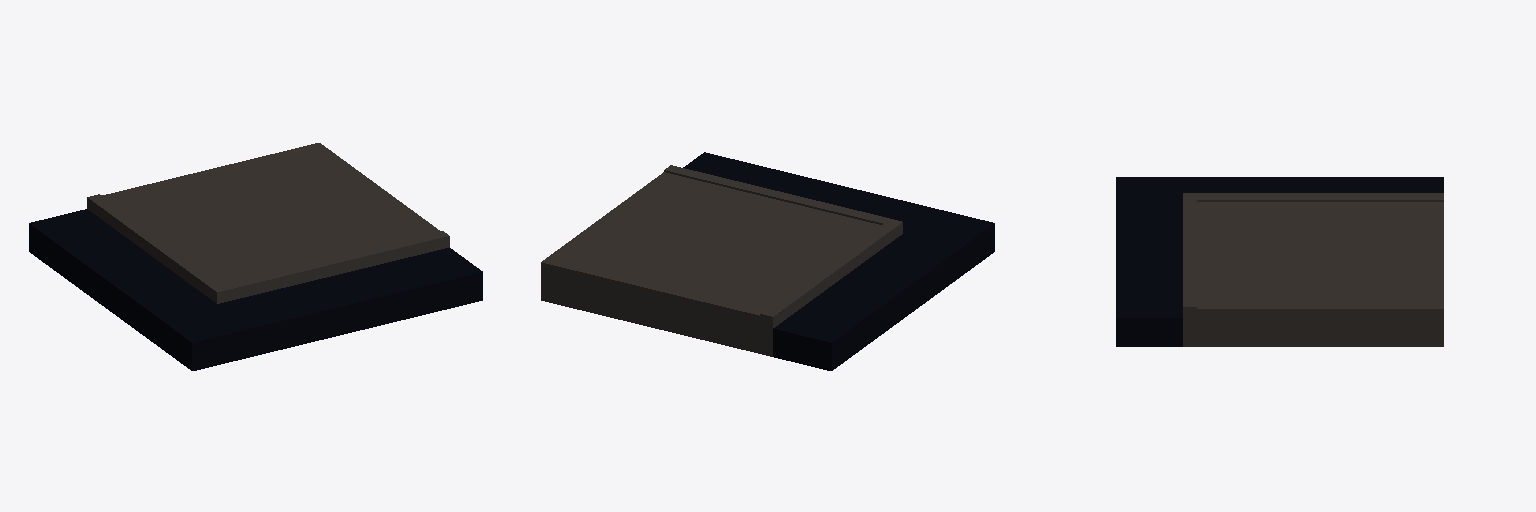
Rendered from road2.obj.
3 views of the same model, side by side, from view 1: azimuth 30°, elevation 25°; view 2: azimuth 150°, elevation 25°; view 3: azimuth 270°, elevation 25° (orthographic).
Visible parts, largest first — view 1: Cube.028_Cube.030; view 2: Cube.028_Cube.030; view 3: Cube.028_Cube.030.
Part boxes in pixels (bbox=[...]): Cube.028_Cube.030: bbox=[29, 143, 482, 370]; Cube.028_Cube.030: bbox=[541, 152, 994, 370]; Cube.028_Cube.030: bbox=[1116, 177, 1443, 346].
Size of the model in its own units: 5.73 by 0.7574 by 5.58.